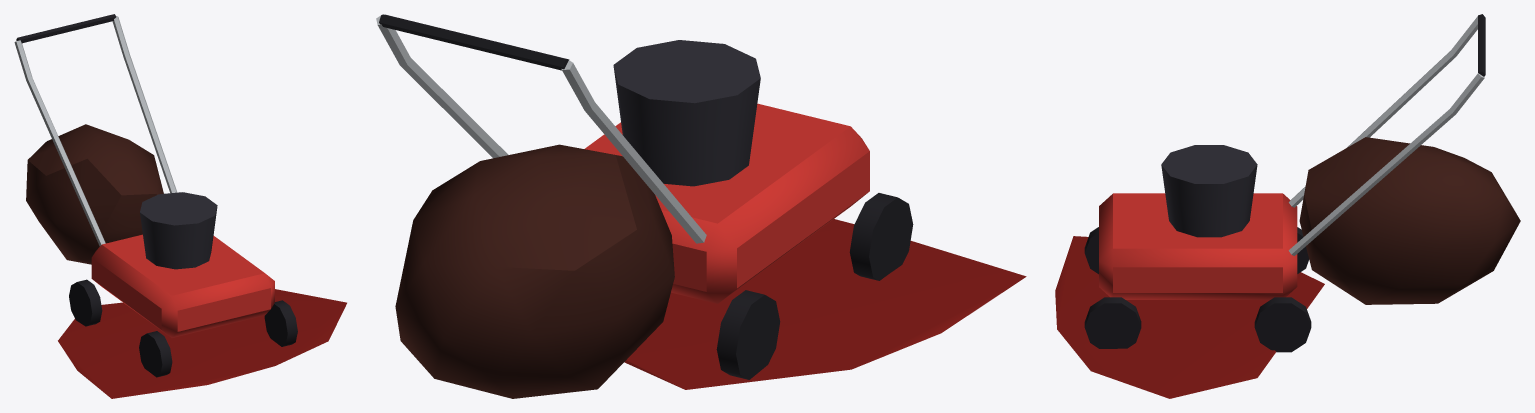
Rendered from abandoned_mower.glb.
3 views of the same model, side by side, from view 1: azimuth 30°, elevation 25°; view 2: azimuth 150°, elevation 25°; view 3: azimuth 270°, elevation 25° (orthographic). The views are drawn at different scales.
Visible parts, largest first — view 1: abandoned_mower; view 2: abandoned_mower; view 3: abandoned_mower.
Boxes of the visible parts, x1,y1,x2,y2 form: abandoned_mower: (14, 14, 346, 398); abandoned_mower: (376, 14, 1026, 398); abandoned_mower: (1055, 14, 1520, 398).
Size of the model in its own units: 1.36 by 1.05 by 1.64.
